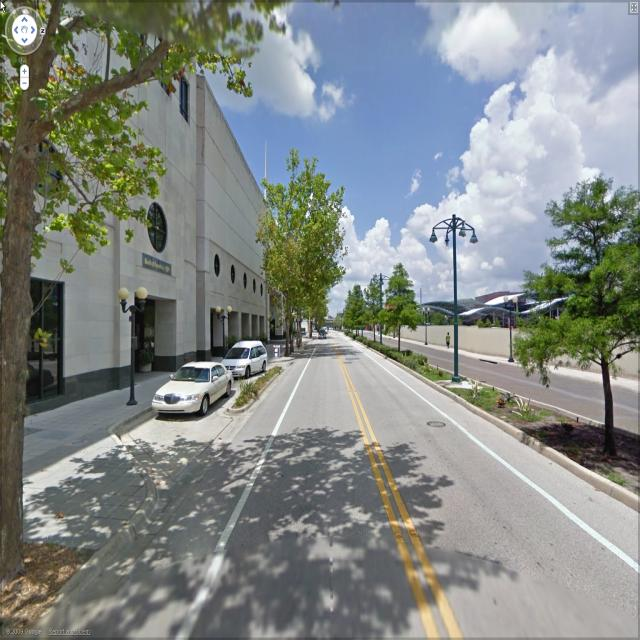b_2: (0, 1, 298, 420)
